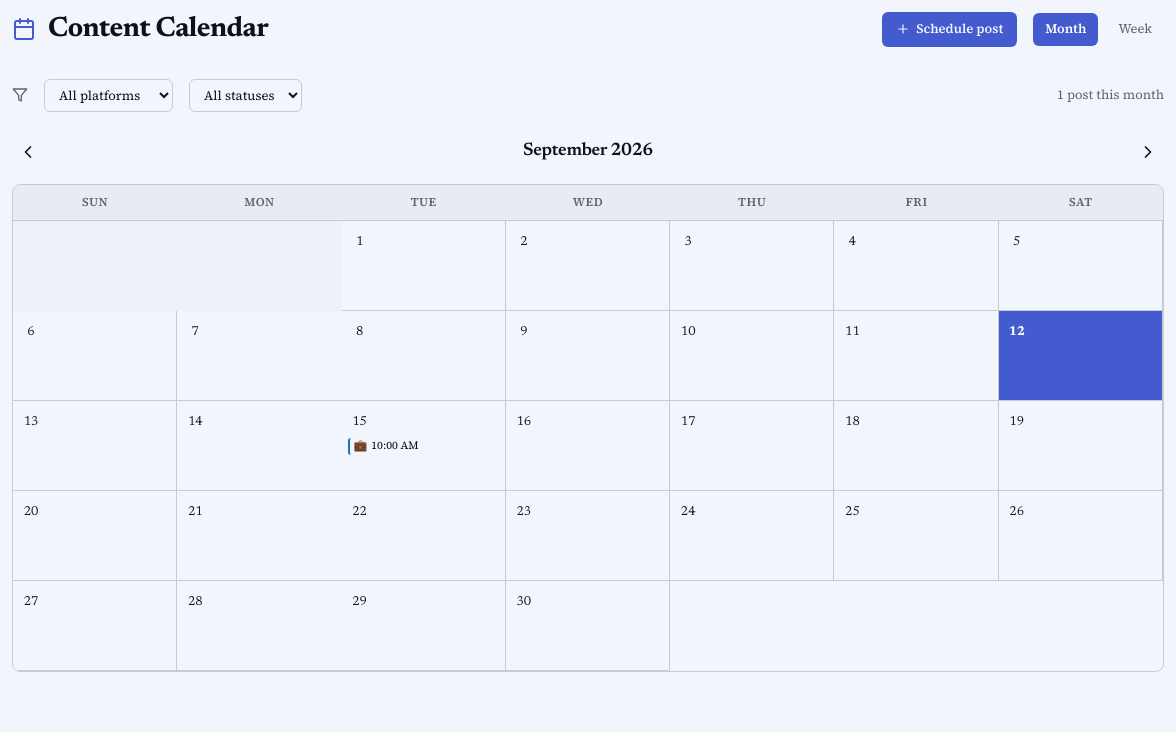
it: CalendarPage › opens the detail panel with actions for a scheduled post
The width and height of the screenshot is (1176, 732).
Click the text "10:00 AM".
click(395, 447)  # box [371,439,419,454]
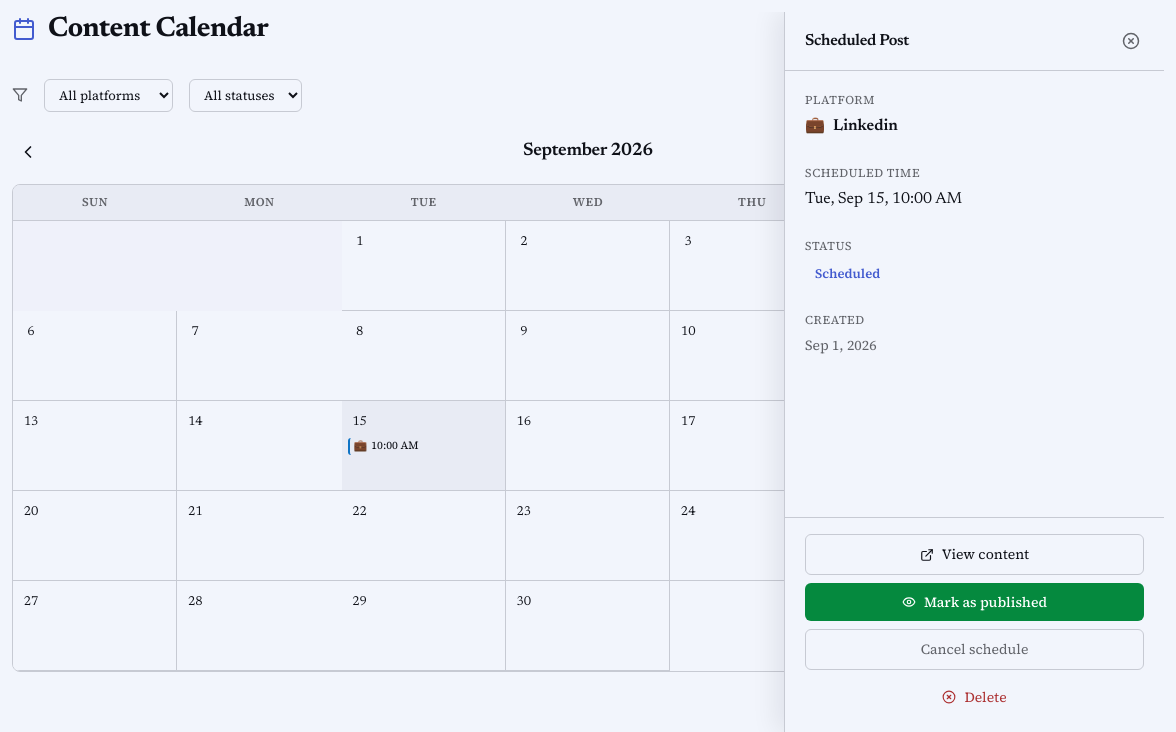
expect the heading "Scheduled Post" is shown: met, box [805,32,909,50]
expect the text "Linkedin" is shown: met, box [833,114,898,140]
expect the text "scheduled" is shown: met, box [815,265,880,282]
